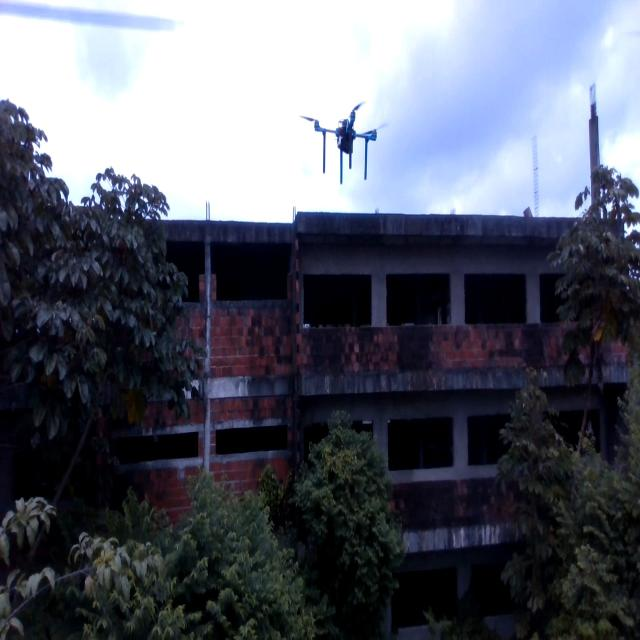-uav-: (292, 83, 390, 191)
